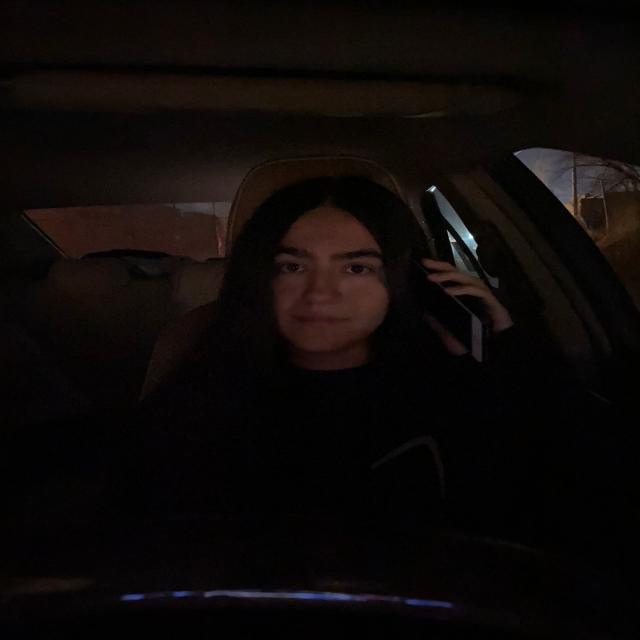mobile: (402, 255, 496, 368)
person: (240, 187, 400, 384)
